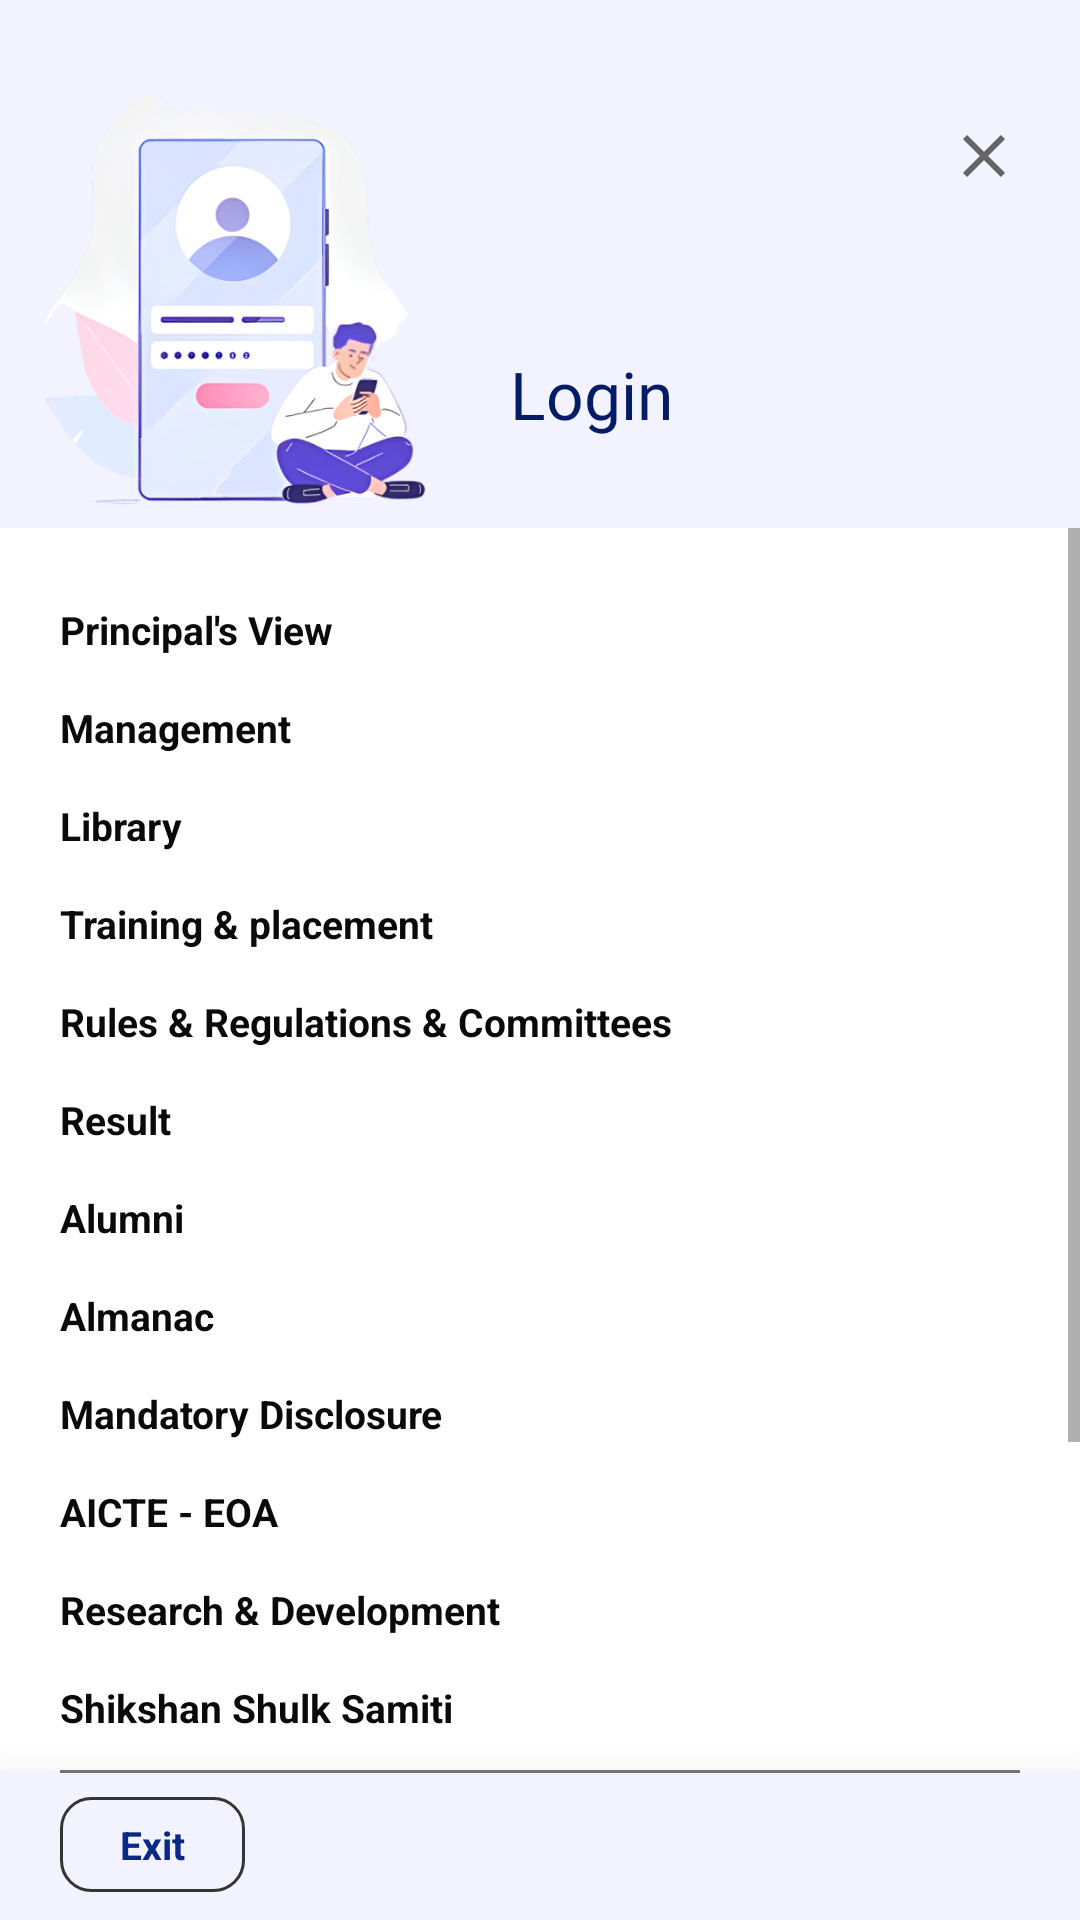

Where to tap for icons on this 1080x1920 app screen, as point (x, y):
close: point (984, 156)
